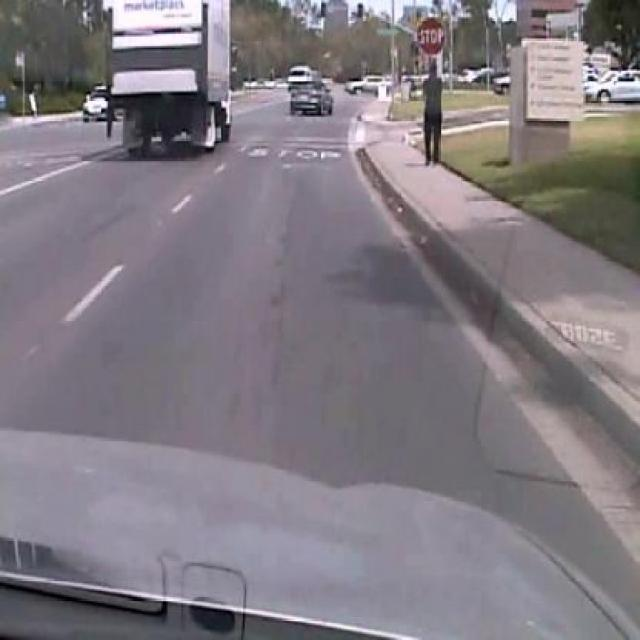stop: (416, 15, 447, 59)
